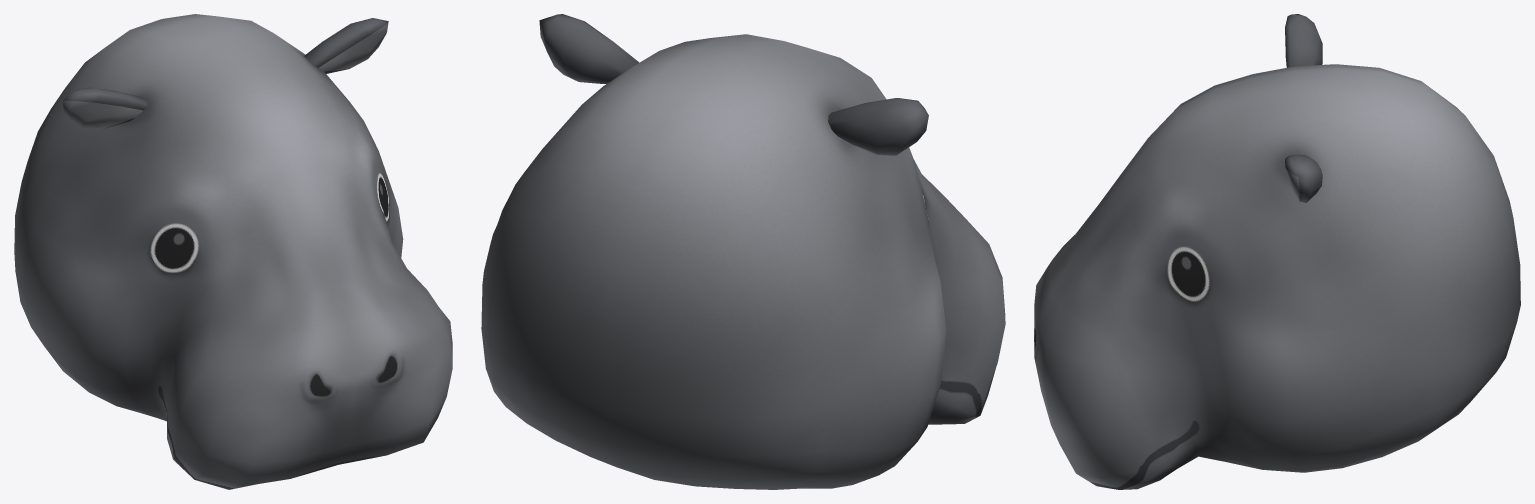
File: hippo.FBX
3 views of the same model, side by side, from view 1: azimuth 30°, elevation 25°; view 2: azimuth 150°, elevation 25°; view 3: azimuth 270°, elevation 25° (orthographic). The views are drawn at different scales.
Parts seen in each view (by area): view 1: hippo; view 2: hippo; view 3: hippo.
Part boxes in pixels (<box>): hippo: <box>14,14,452,489</box>; hippo: <box>481,14,1005,489</box>; hippo: <box>1034,14,1520,489</box>.
Bounding box in the file's own units: 31.19 × 30.35 × 37.83.
